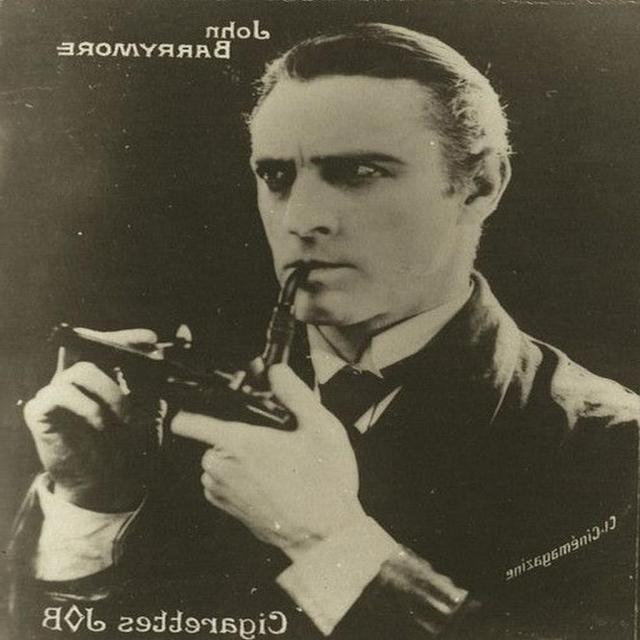smoking: (45, 66, 487, 443)
